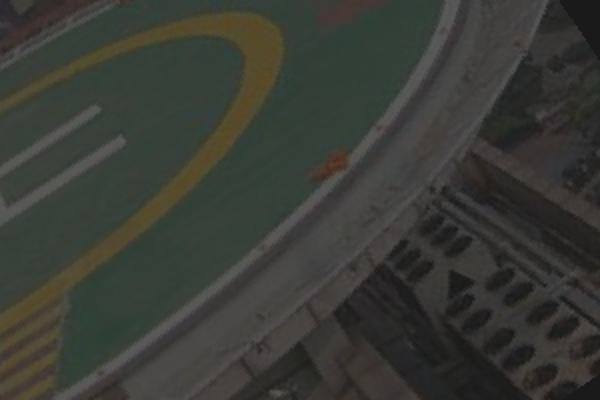Apron: (2, 7, 288, 333)
